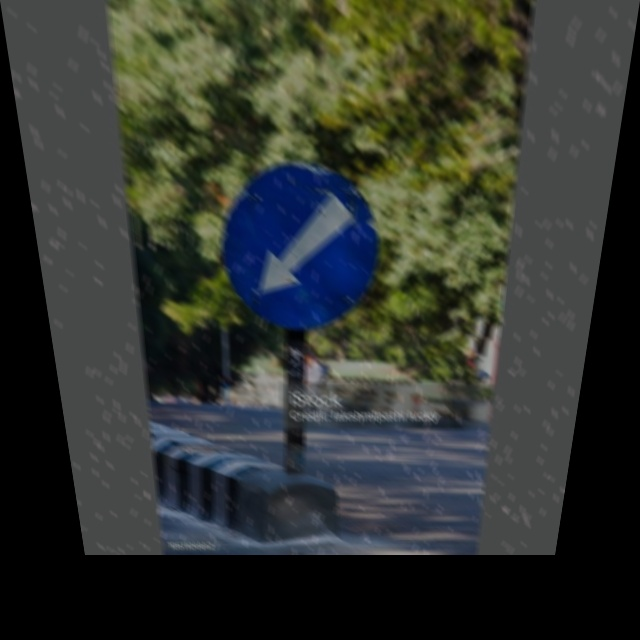Compulsory_Keep_Left: (211, 160, 391, 344)
